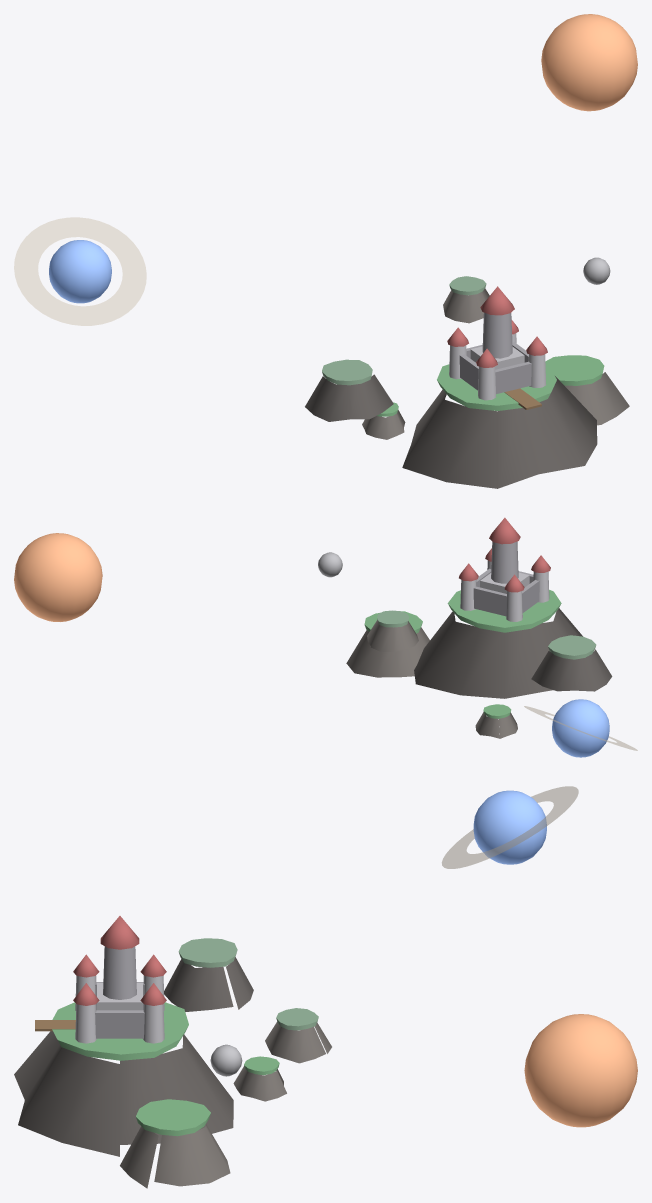
Rendered from universo.glb.
3 renders of one model, top to bottom at view 1: azimuth 30°, elevation 25°; view 2: azimuth 150°, elevation 25°; view 3: azimuth 270°, elevation 25°, orthographic. The views are drawn at different scales.
Parts seen in each view (by area): view 1: islandMain_rock_n, planet1_n, ring_n, planet2_n, islandA_rock_n, islandMain_cap_n, islandB_rock_n, islandB_cap_n, keepTower_n, islandC_rock_n, islandA_cap_n, wall1_n (+1 smaller); view 2: islandMain_rock_n, planet1_n, planet2_n, islandA_rock_n, islandB_rock_n, islandMain_cap_n, islandC_rock_n, keepTower_n, islandA_cap_n, islandD_rock_n, wall0_n, keepRoof_n (+9 smaller); view 3: islandMain_rock_n, planet1_n, islandB_rock_n, planet2_n, islandA_rock_n, islandMain_cap_n, ring_n, islandB_cap_n, islandC_rock_n, keepTower_n, islandA_cap_n, wall3_n (+7 smaller).
Part boxes in pixels (left/top/right/bottom): islandMain_rock_n: left=402, top=376, right=597, bottom=488; planet1_n: left=541, top=14, right=637, bottom=111; ring_n: left=14, top=217, right=146, bottom=325; planet2_n: left=49, top=240, right=111, bottom=303; islandA_rock_n: left=305, top=374, right=393, bottom=421; islandMain_cap_n: left=437, top=364, right=556, bottom=410; islandB_rock_n: left=565, top=372, right=629, bottom=425; islandB_cap_n: left=545, top=355, right=604, bottom=385; keepTower_n: left=482, top=312, right=512, bottom=358; islandC_rock_n: left=443, top=288, right=489, bottom=323; islandA_cap_n: left=322, top=359, right=372, bottom=385; wall1_n: left=495, top=361, right=531, bottom=393; islandMain_rock_n: left=414, top=608, right=587, bottom=698; planet1_n: left=14, top=533, right=102, bottom=621; planet2_n: left=552, top=699, right=609, bottom=757; islandA_rock_n: left=531, top=649, right=612, bottom=691; islandB_rock_n: left=346, top=627, right=429, bottom=677; islandMain_cap_n: left=447, top=589, right=561, bottom=632; islandC_rock_n: left=367, top=620, right=418, bottom=651; keepTower_n: left=491, top=541, right=518, bottom=583; islandA_cap_n: left=548, top=635, right=596, bottom=659; islandD_rock_n: left=475, top=712, right=517, bottom=738; wall0_n: left=473, top=586, right=506, bottom=616; keepRoof_n: left=489, top=517, right=520, bottom=544; islandMain_rock_n: left=14, top=1031, right=233, bottom=1156; planet1_n: left=524, top=1014, right=637, bottom=1127; islandB_rock_n: left=120, top=1124, right=230, bottom=1188; planet2_n: left=473, top=790, right=546, bottom=864; islandA_rock_n: left=164, top=957, right=253, bottom=1011; islandMain_cap_n: left=52, top=1002, right=188, bottom=1060; ring_n: left=442, top=786, right=578, bottom=868; islandB_cap_n: left=136, top=1099, right=210, bottom=1136; islandC_rock_n: left=265, top=1022, right=331, bottom=1063; keepTower_n: left=103, top=946, right=136, bottom=999; islandA_cap_n: left=178, top=938, right=237, bottom=967; wall3_n: left=95, top=1010, right=144, bottom=1038.
Size of the model in its own units: 48.55 by 16.45 by 35.17.
